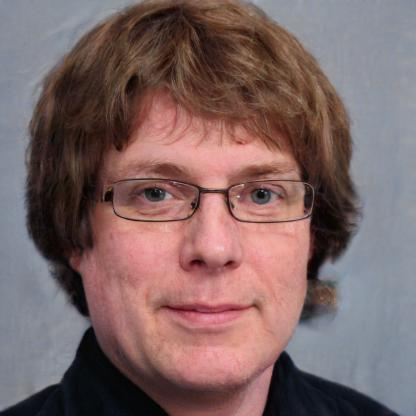glasses: (101, 169, 323, 227)
